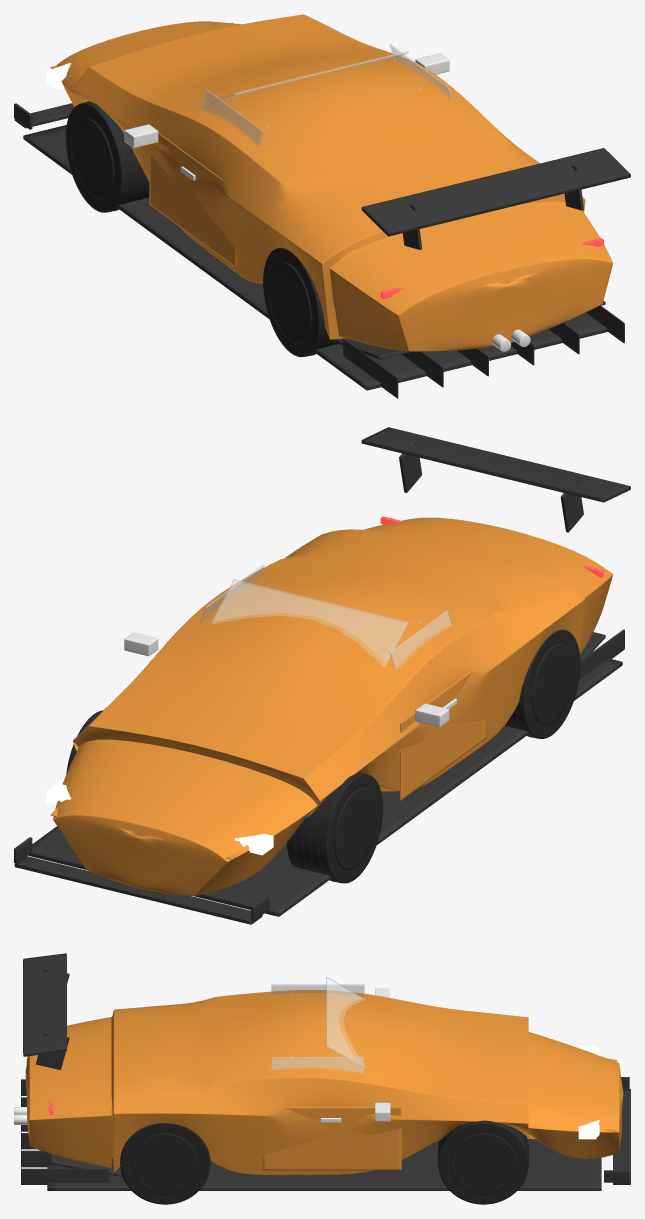
The model's file is vehicle.opt.glb.
3 views of the same model, one above another, from view 1: azimuth 30°, elevation 25°; view 2: azimuth 150°, elevation 25°; view 3: azimuth 270°, elevation 25° (orthographic). The views are drawn at different scales.
Parts seen in each view (by area): view 1: BODY_MainShell, UNDERBODY_FlatFloor, AERO_991R_SwanNeckWing, WHEEL_FL_Tire, WHEEL_RL_Tire, BODY_Door_FL, GLASS_Greenhouse, JEWELRY_Hardware, AERO_FrontSplitter; view 2: BODY_MainShell, UNDERBODY_FlatFloor, GLASS_Greenhouse, AERO_991R_SwanNeckWing, WHEEL_FL_Tire, WHEEL_RL_Tire, BODY_Door_FL, AERO_FrontSplitter, JEWELRY_Hardware, LIGHTING_Headlamps; view 3: BODY_MainShell, UNDERBODY_FlatFloor, WHEEL_FR_Tire, WHEEL_RR_Tire, BODY_Door_FR, AERO_991R_SwanNeckWing, GLASS_Greenhouse, AERO_FrontSplitter, JEWELRY_Hardware, LIGHTING_Headlamps.
Part boxes in pixels (left/top/right/bottom): BODY_MainShell: left=56, top=14, right=613, bottom=351; UNDERBODY_FlatFloor: left=23, top=125, right=624, bottom=398; AERO_991R_SwanNeckWing: left=361, top=148, right=630, bottom=249; WHEEL_FL_Tire: left=65, top=101, right=149, bottom=212; WHEEL_RL_Tire: left=263, top=248, right=337, bottom=357; BODY_Door_FL: left=149, top=132, right=236, bottom=267; GLASS_Greenhouse: left=200, top=44, right=452, bottom=146; JEWELRY_Hardware: left=124, top=53, right=449, bottom=180; AERO_FrontSplitter: left=14, top=103, right=73, bottom=129; BODY_MainShell: left=53, top=517, right=613, bottom=896; UNDERBODY_FlatFloor: left=27, top=629, right=624, bottom=916; GLASS_Greenhouse: left=200, top=564, right=452, bottom=670; AERO_991R_SwanNeckWing: left=361, top=427, right=630, bottom=532; WHEEL_FL_Tire: left=287, top=772, right=382, bottom=883; WHEEL_RL_Tire: left=505, top=629, right=580, bottom=738; BODY_Door_FL: left=400, top=669, right=486, bottom=800; AERO_FrontSplitter: left=14, top=837, right=269, bottom=924; JEWELRY_Hardware: left=124, top=632, right=456, bottom=727; LIGHTING_Headlamps: left=46, top=783, right=273, bottom=855; BODY_MainShell: left=25, top=990, right=623, bottom=1175; UNDERBODY_FlatFloor: left=21, top=1079, right=601, bottom=1190; WHEEL_FR_Tire: left=438, top=1120, right=528, bottom=1204; WHEEL_RR_Tire: left=120, top=1123, right=210, bottom=1204; BODY_Door_FR: left=262, top=1107, right=401, bottom=1170; AERO_991R_SwanNeckWing: left=23, top=953, right=69, bottom=1069; GLASS_Greenhouse: left=271, top=977, right=365, bottom=1073; AERO_FrontSplitter: left=604, top=1077, right=630, bottom=1184; JEWELRY_Hardware: left=320, top=988, right=390, bottom=1122; LIGHTING_Headlamps: left=578, top=1045, right=599, bottom=1139.
Size of what is drawn, in the model's own units: 2.28 by 1.31 by 4.77.
